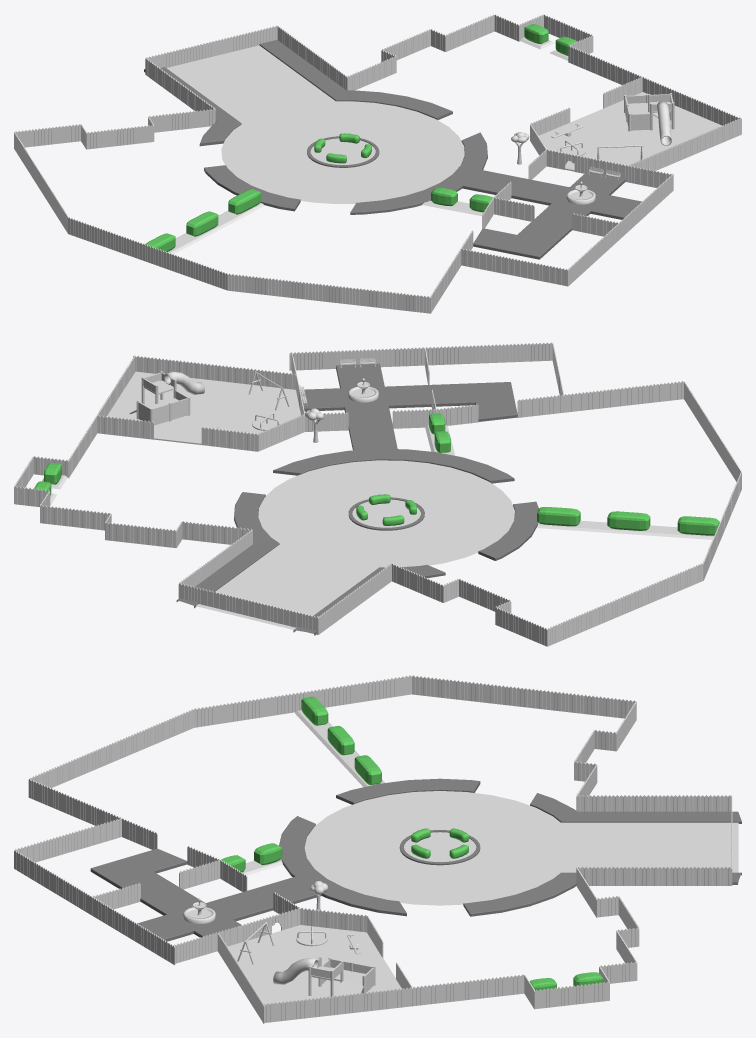
Rendered from Coldsack.fbx.
3 renders of one model, top to bottom at view 1: azimuth 30°, elevation 25°; view 2: azimuth 150°, elevation 25°; view 3: azimuth 270°, elevation 25°, orthographic. The views are drawn at different scales.
Parts seen in each view (by area): view 1: Map, Outside Fence, Inside Fence, Map.005; view 2: Map, Outside Fence, Inside Fence, Map.005; view 3: Map, Outside Fence, Inside Fence, Map.005.
Boxes of the visible parts, x1=… form: Map: x1=144, y1=24, x2=721, y2=259; Outside Fence: x1=14, y1=14, x2=741, y2=313; Inside Fence: x1=430, y1=77, x2=671, y2=313; Map.005: x1=314, y1=133, x2=371, y2=163; Map: x1=34, y1=358, x2=719, y2=635; Outside Fence: x1=14, y1=342, x2=741, y2=646; Inside Fence: x1=97, y1=347, x2=684, y2=451; Map.005: x1=356, y1=494, x2=416, y2=525; Map: x1=90, y1=696, x2=741, y2=1005; Outside Fence: x1=14, y1=675, x2=732, y2=1023; Inside Fence: x1=28, y1=778, x2=412, y2=988; Map.005: x1=411, y1=828, x2=468, y2=858.
Bounding box in the file's own units: 9671 × 491 × 9021.
